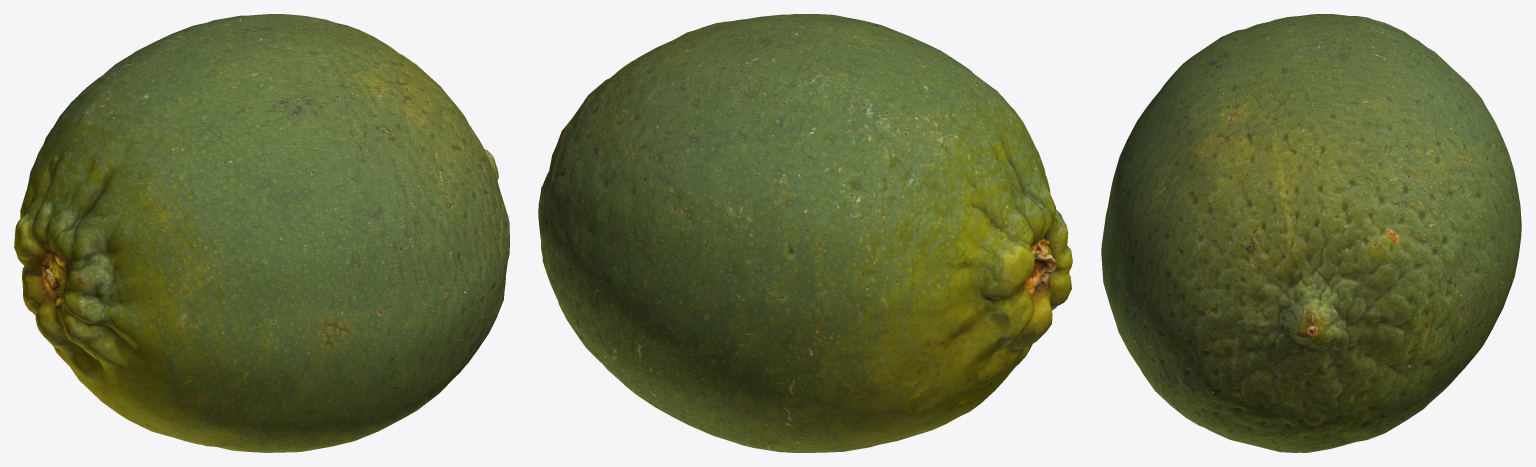
The model's file is lime.obj.
The picture shows the model from 3 angles, left to right: view 1: azimuth 30°, elevation 25°; view 2: azimuth 150°, elevation 25°; view 3: azimuth 270°, elevation 25°; orthographic projection. The views are drawn at different scales.
Parts seen in each view (by area): view 1: food_lime_01_4k; view 2: food_lime_01_4k; view 3: food_lime_01_4k.
Part boxes in pixels (x1=…): food_lime_01_4k: x1=14, y1=14, x2=509, y2=452; food_lime_01_4k: x1=538, y1=14, x2=1072, y2=452; food_lime_01_4k: x1=1101, y1=14, x2=1521, y2=452.
Size of the model in its own units: 26.71 by 21.26 by 21.71.
Materials: 1 (1 with a texture image).
